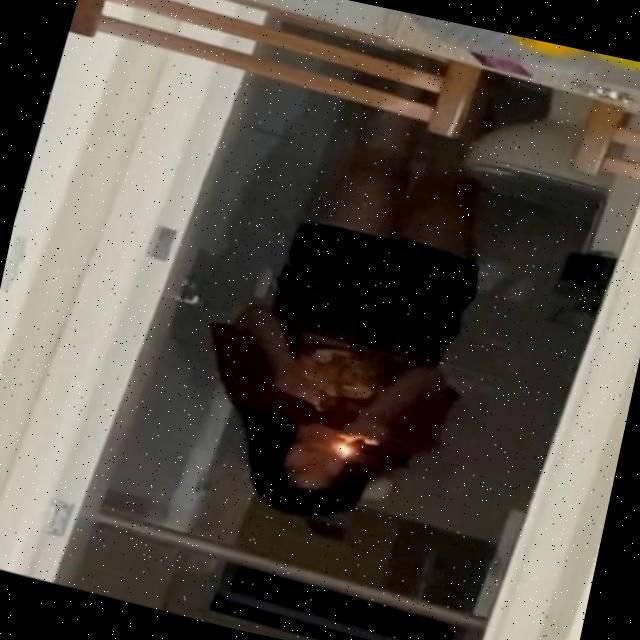fire: (326, 437, 357, 466)
